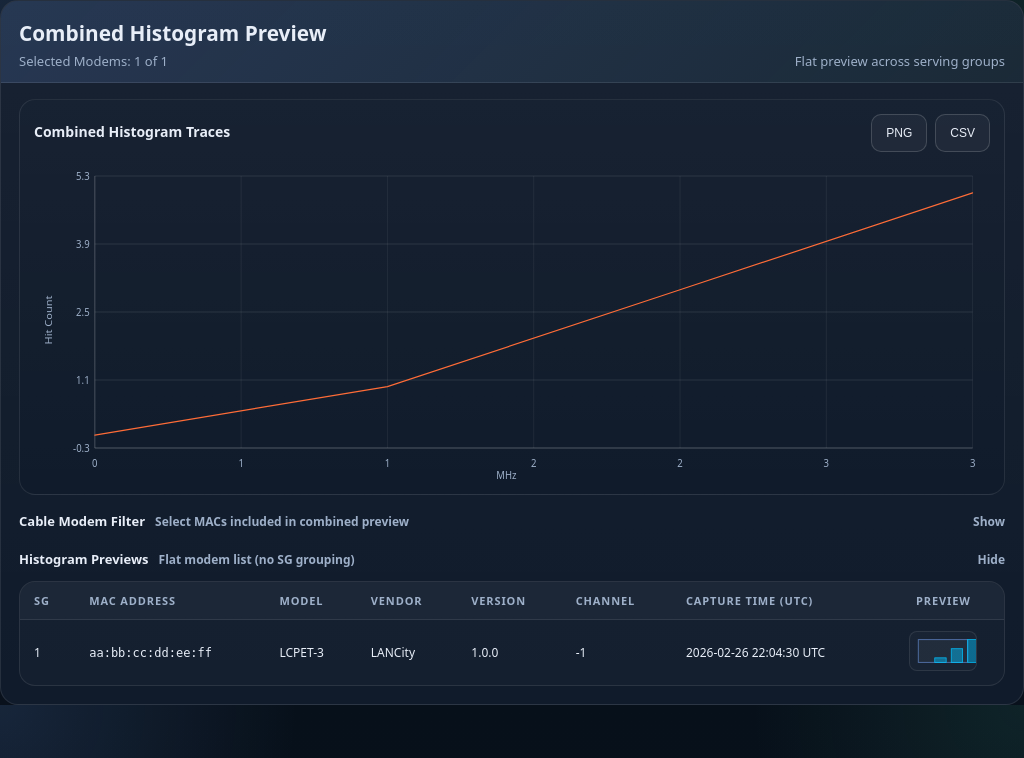
Test: ServingGroupHistogramResultsView › renders a flat combined preview with foldable modem filter and row preview
Expected: the heading "Combined Histogram Preview" is shown, x1=19 y1=19 x2=326 y2=47
Expected: the text "Flat preview across serving groups" is shown, x1=795 y1=52 x2=1005 y2=70
Step 1. Click the text "Cable Modem Filter" → coordinates (82, 521), box x1=19 y1=512 x2=145 y2=530
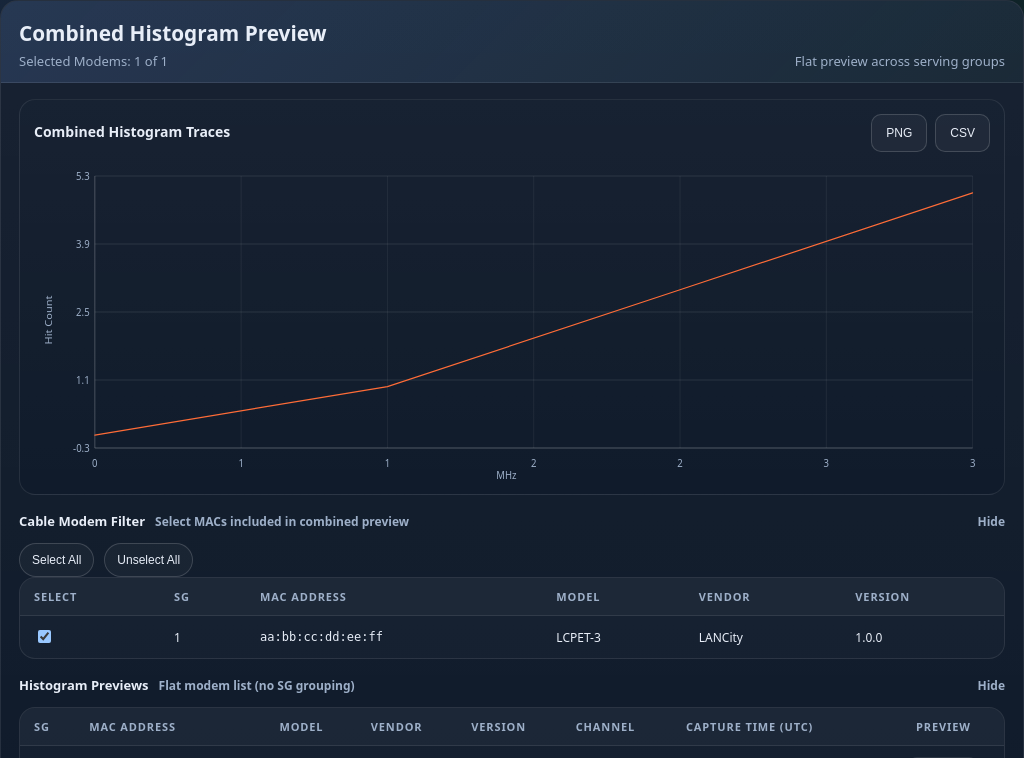
Result: the button "Select All" is shown at x1=19 y1=543 x2=94 y2=577
Result: the button "Unselect All" is shown at x1=104 y1=543 x2=193 y2=577
Result: the column heading "MAC Address" below "Cable Modem Filter" is shown at x1=260 y1=589 x2=347 y2=604
